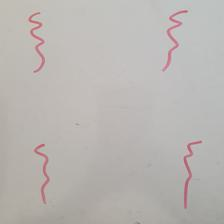location-rna-no-top: (163, 10, 188, 70), (181, 139, 202, 208), (28, 11, 45, 73), (32, 142, 49, 204)
